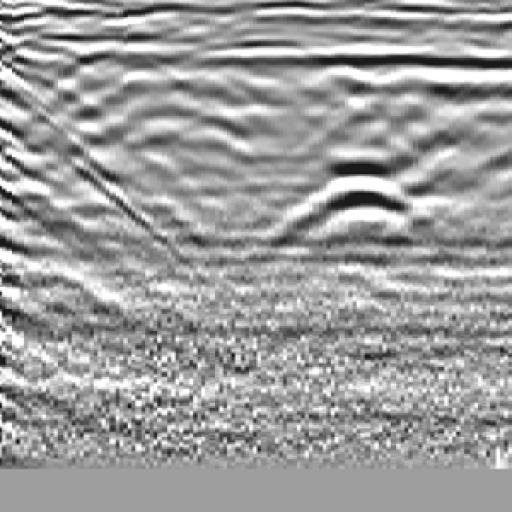metalic: (262, 163, 453, 266)
nonmetalic: (1, 48, 118, 271)
